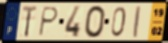0: (110, 6, 128, 38)
4: (64, 5, 83, 39)
I: (133, 5, 142, 40)
O: (84, 5, 107, 40)
P: (37, 6, 60, 38)
T: (22, 5, 39, 39)
